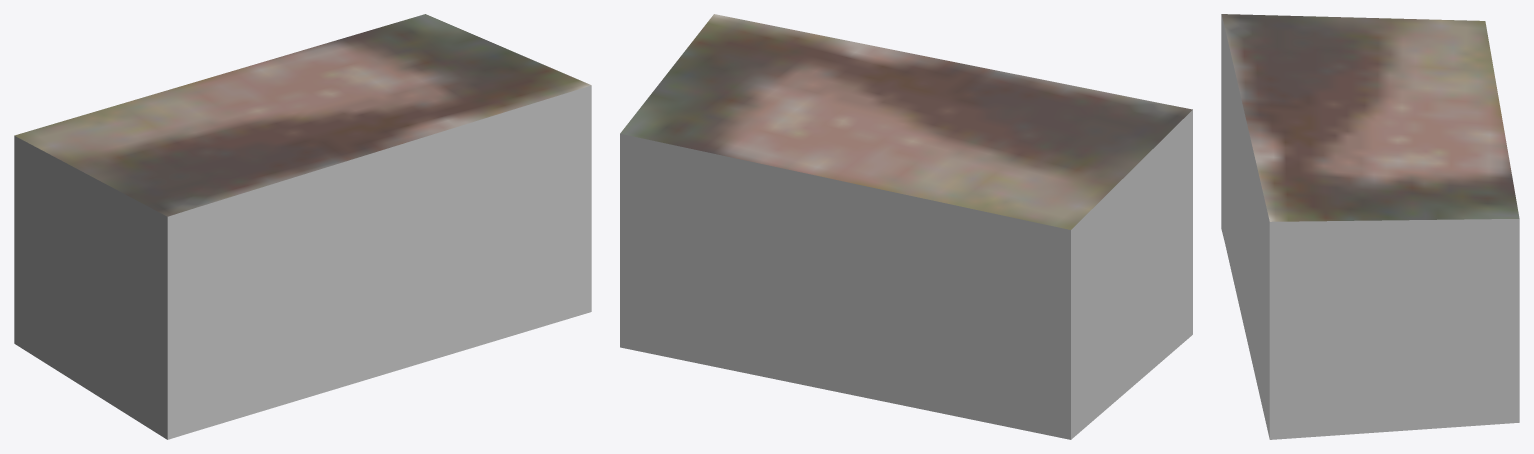
The model's file is DEBW_0010007Tx91.gltf.
The picture shows the model from 3 angles, left to right: view 1: azimuth 30°, elevation 25°; view 2: azimuth 150°, elevation 25°; view 3: azimuth 270°, elevation 25°; orthographic projection. The views are drawn at different scales.
Parts seen in each view (by area): view 1: Z_UP; view 2: Z_UP; view 3: Z_UP.
Part boxes in pixels (x1,y1,x2,y2): Z_UP: (14, 14, 591, 439); Z_UP: (620, 14, 1192, 439); Z_UP: (1221, 14, 1519, 439).
Size of the model in its own units: 8.02 by 3.73 by 4.62.
2 materials, 1 textured.
